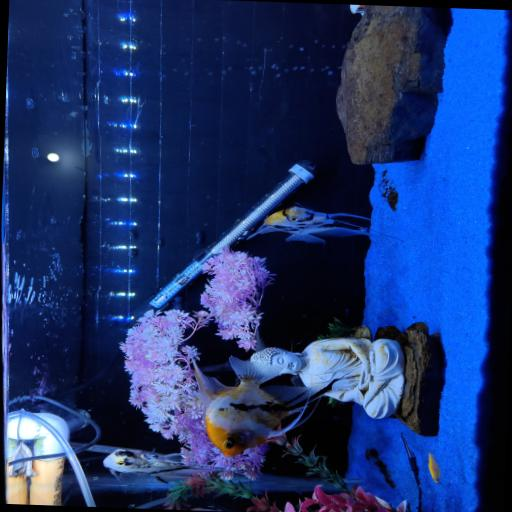Fish: (194, 357, 311, 457), (248, 206, 377, 243), (103, 449, 219, 484), (428, 453, 440, 483)
